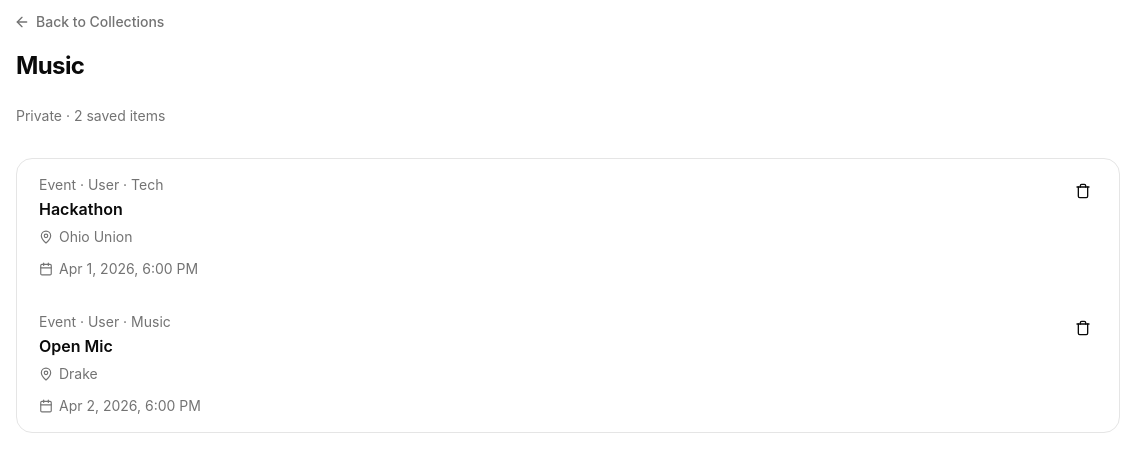
Test: [phase:6] [regression:always] YouCollectionDetailPage › TC-COL-019: owner can remove saved items from collection detail
The width and height of the screenshot is (1137, 450).
Expected: the heading "Music" is shown, [16,51,84,80]
Expected: the text "Private · 2 saved items" is shown, [16,106,165,126]
Click the button named "Remove from collection" in the row of "Event · User · Tech" at (1083,191), box [1067,175,1099,207]
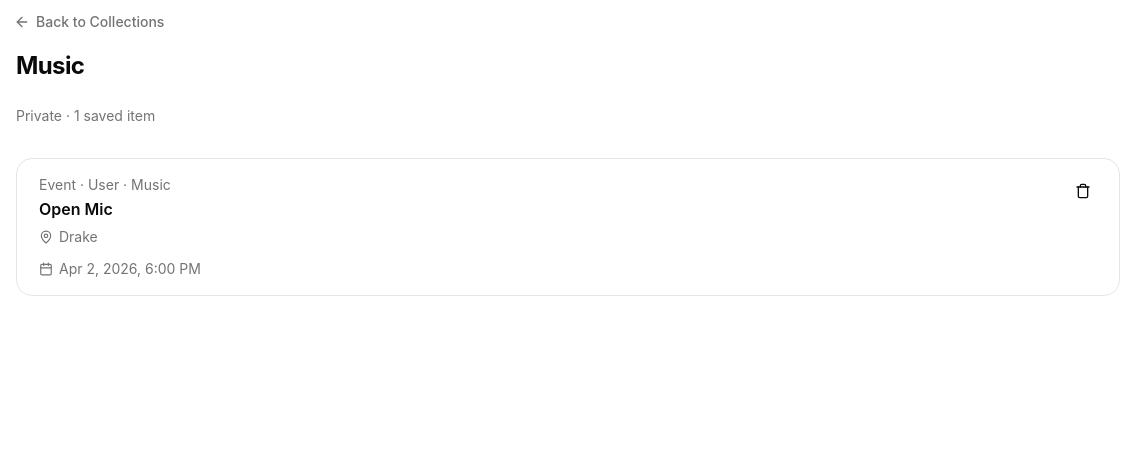
Result: the text "Private · 1 saved item" is shown at [16,106,155,126]
